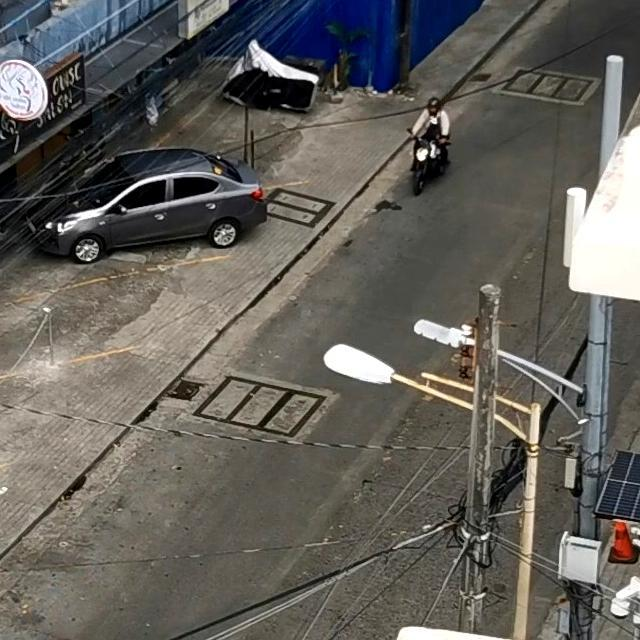Motorcycle: (408, 124, 451, 196)
